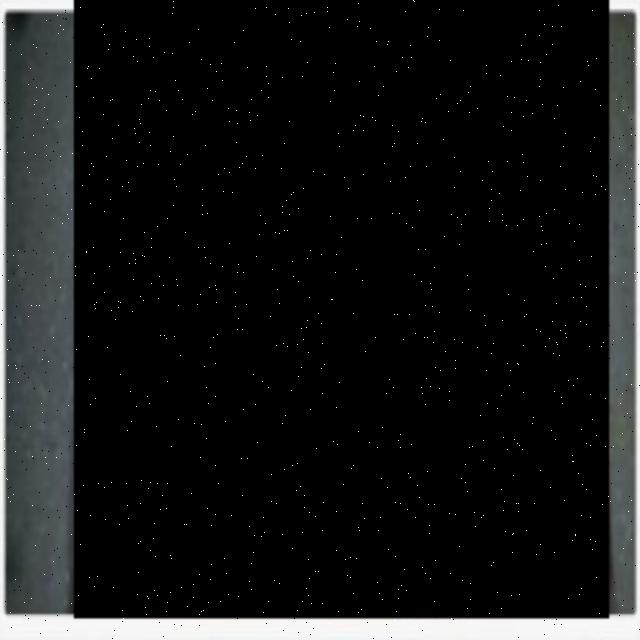Sweet_Potato: (73, 0, 609, 618)
